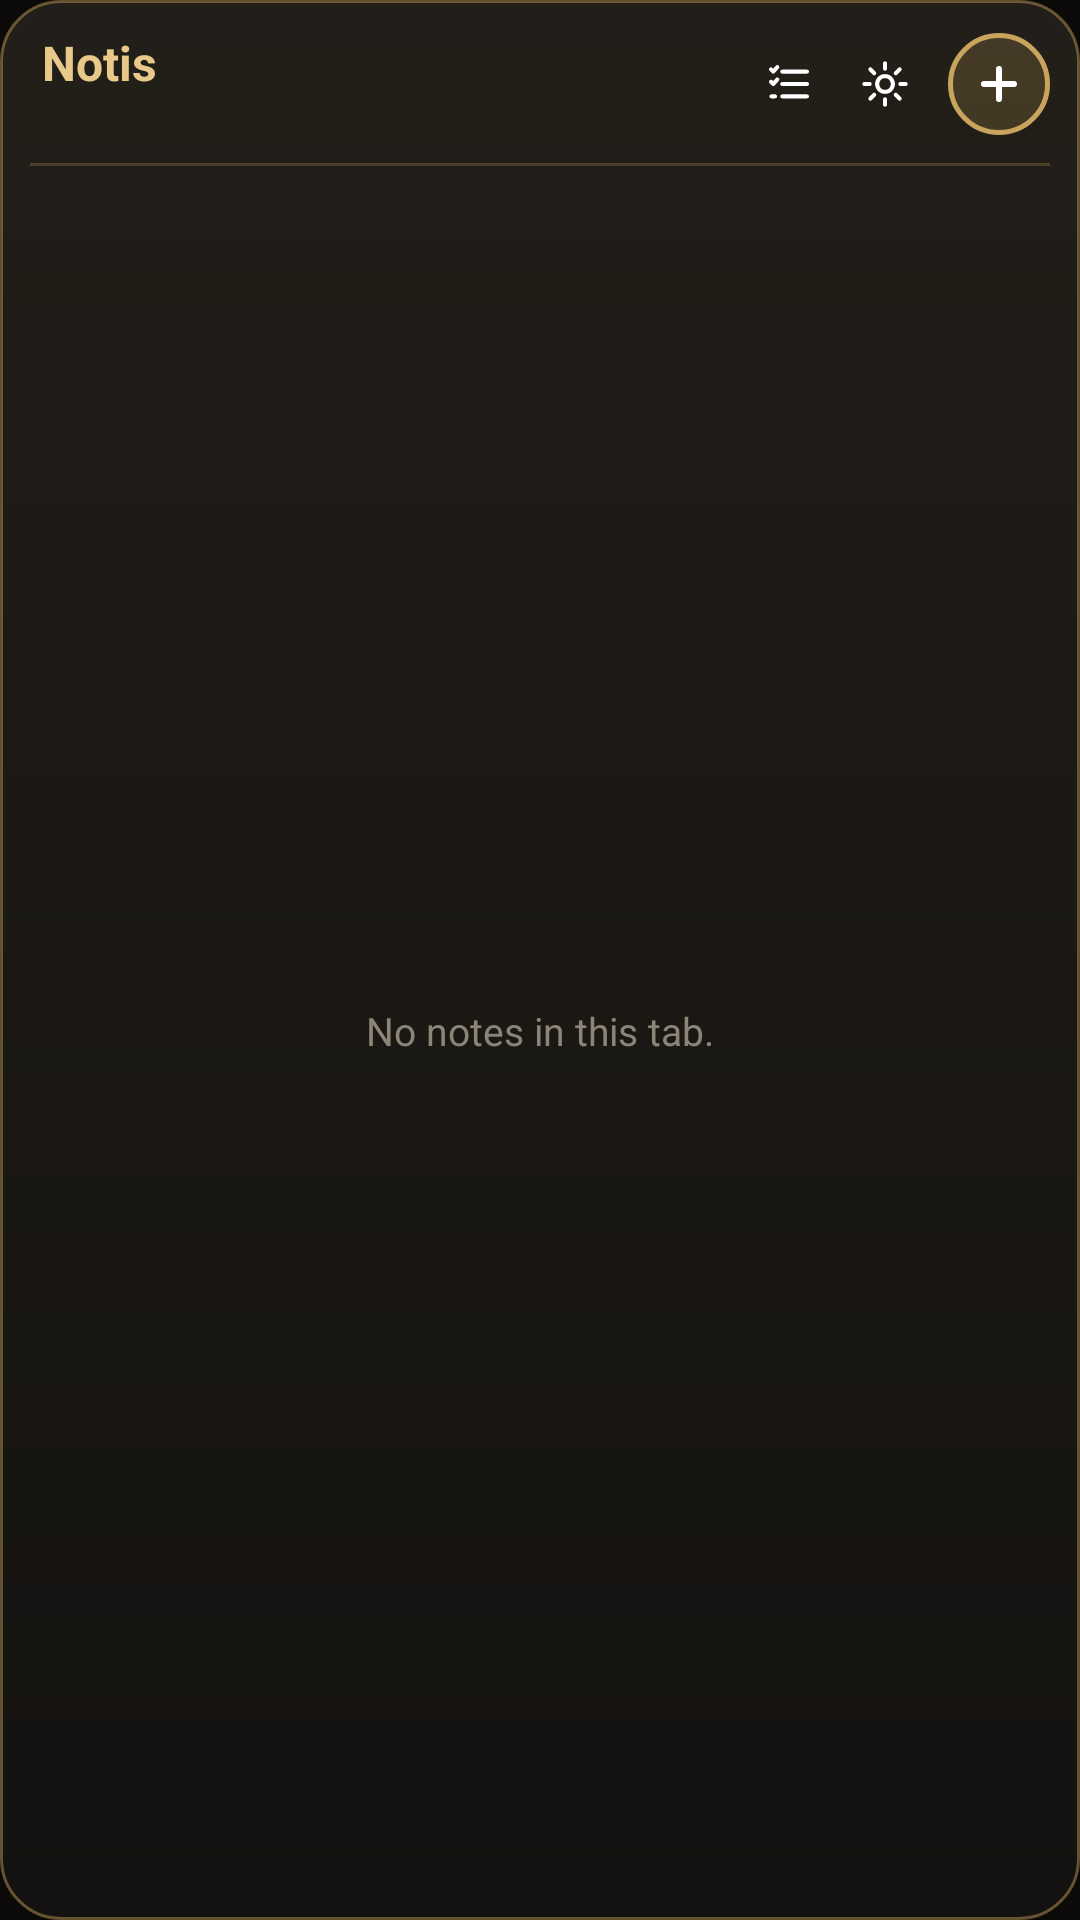

Icons on this 1080x1920 Android screen, each with the point to tap as point (x, y):
Add: point (999, 84)
